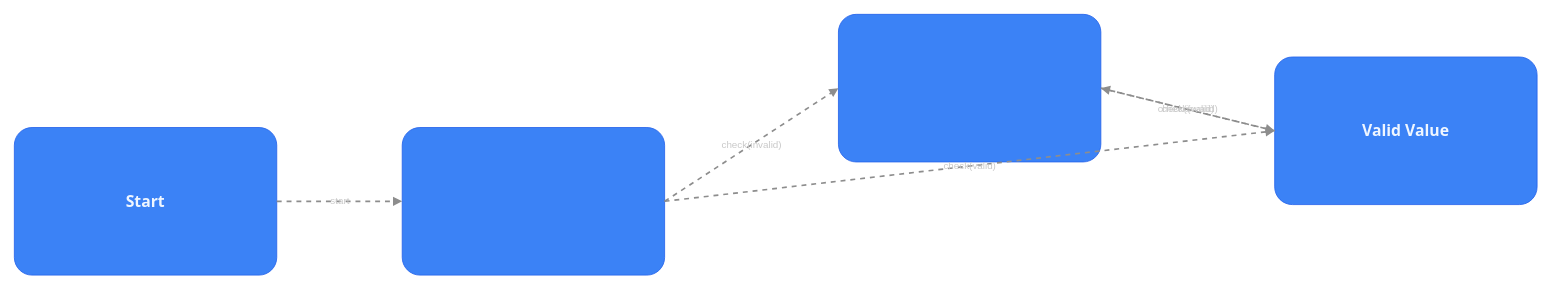
Image size: 1551x289. Some labels were removed from this diagram. Here are the shapes that lost their labels. From the top down, the centre of each, then its label:
(969,88): Invalid Value
(533,201): Not Showing Result
